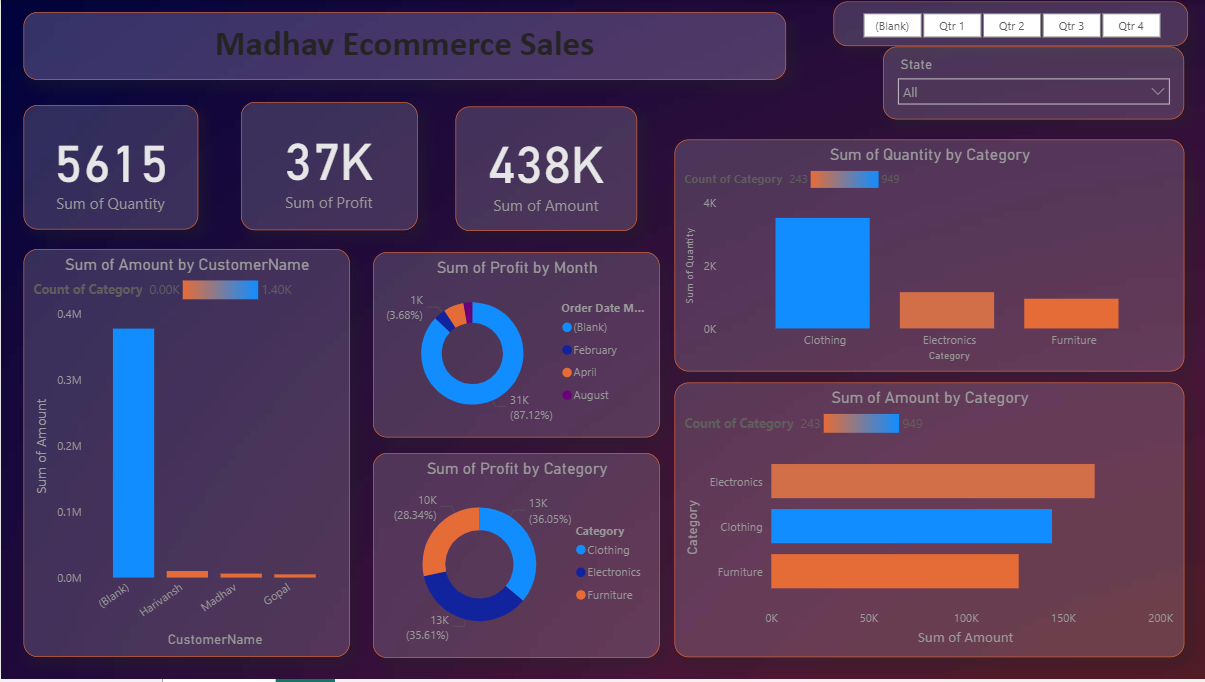

What the dashboard file says about the page in this screenshot:
{"tool":"powerbi","page":{"name":"Page 1","canvas":[1280,720],"ordinal":0},"visuals":[{"type":"textbox","box":[24.6,13.2,808.8,71.8],"z":0},{"type":"columnChart","fields":{"Category":["Details.Category"],"Y":["Details.Quantity"]},"box":[714.3,147.4,540.5,245.7],"z":1000},{"type":"barChart","fields":{"Category":["Details.Category"],"Y":["Details.Amount"]},"box":[714.3,406.3,540.5,291],"z":2000},{"type":"donutChart","fields":{"Category":["Details.Category"],"Y":["Details.Profit"]},"box":[395,480,304.3,217.3],"z":3000},{"type":"donutChart","fields":{"Y":["Details.Profit"],"Category":["Orders.Order Date.Variation.Date Hierarchy.Month"]},"box":[395,266.5,304.3,196.5],"z":4000},{"type":"card","fields":{"Values":["Details.Profit"]},"box":[255.1,107.7,187.1,136.1],"z":5000},{"type":"card","fields":{"Values":["Details.Quantity"]},"box":[24.6,111.5,185.2,132.3],"z":6000},{"type":"card","fields":{"Values":["Details.Amount"]},"box":[481.9,113.4,192.8,132.3],"z":7000},{"type":"clusteredColumnChart","fields":{"Y":["Details.Amount"],"Category":["Orders.CustomerName"]},"box":[24.6,264.6,345.8,432.8],"z":8000},{"type":"slicer","fields":{"Values":["Orders.Order Date.Variation.Date Hierarchy.Quarter"]},"box":[882.5,1.9,376.1,47.2],"z":9000},{"type":"slicer","fields":{"Values":["Orders.State"]},"box":[935.4,49.1,319.4,77.5],"z":10000}]}

Visuals, with their boxes in screenshot pixels (x1, y1, x2, y2), scaled from the page's 1280x720 canvas onto the 1205x682 screenshot:
textbox: select_region(23, 13, 785, 81)
columnChart - Details.Category x Details.Quantity: select_region(672, 140, 1181, 372)
barChart - Details.Category x Details.Amount: select_region(672, 385, 1181, 660)
donutChart - Details.Category x Details.Profit: select_region(372, 455, 658, 660)
donutChart - Details.Profit x Orders.Order Date.Variation.Date Hierarchy.Month: select_region(372, 252, 658, 439)
card - Details.Profit: select_region(240, 102, 416, 231)
card - Details.Quantity: select_region(23, 106, 198, 231)
card - Details.Amount: select_region(454, 107, 635, 233)
clusteredColumnChart - Details.Amount x Orders.CustomerName: select_region(23, 251, 349, 661)
slicer - Orders.Order Date.Variation.Date Hierarchy.Quarter: select_region(831, 2, 1185, 47)
slicer - Orders.State: select_region(881, 47, 1181, 120)
